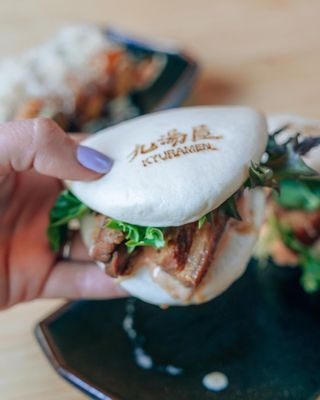soup: (12, 102, 272, 308)
